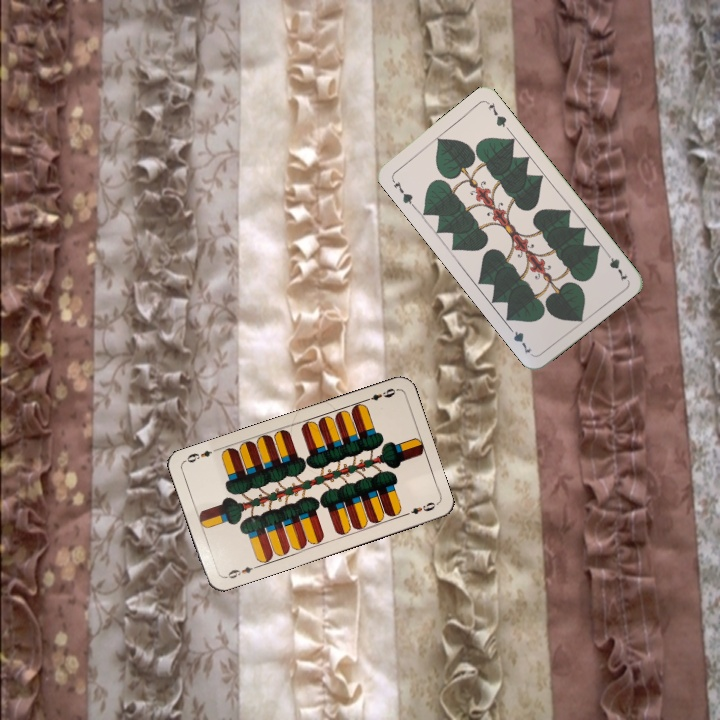E9: (220, 562, 260, 581), (360, 384, 398, 404)
G7: (601, 246, 630, 284), (388, 175, 417, 210)
